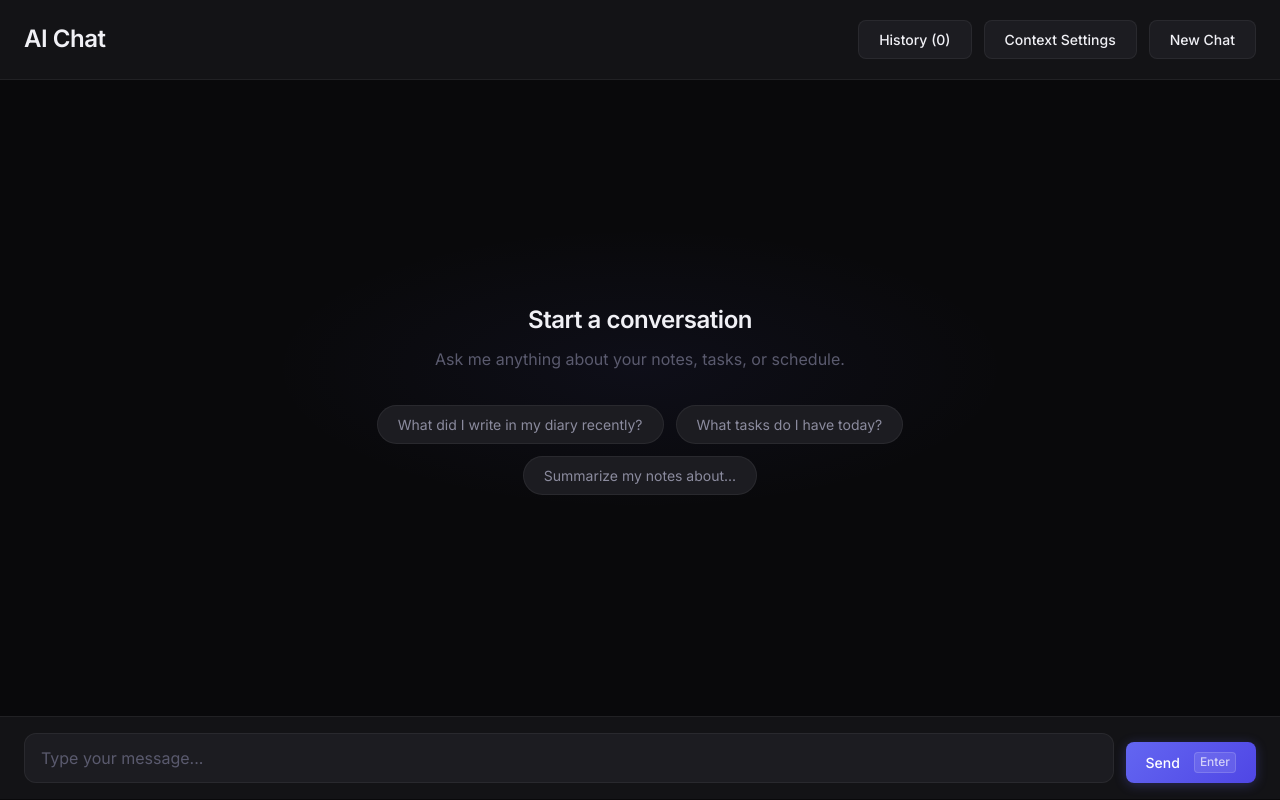
Scenario: Chat Component › displays sources when context is used
The width and height of the screenshot is (1280, 800).
Type "What did I write?" into the text box with placeholder "Type your message..." at (569, 758), box [24,733,1114,783]
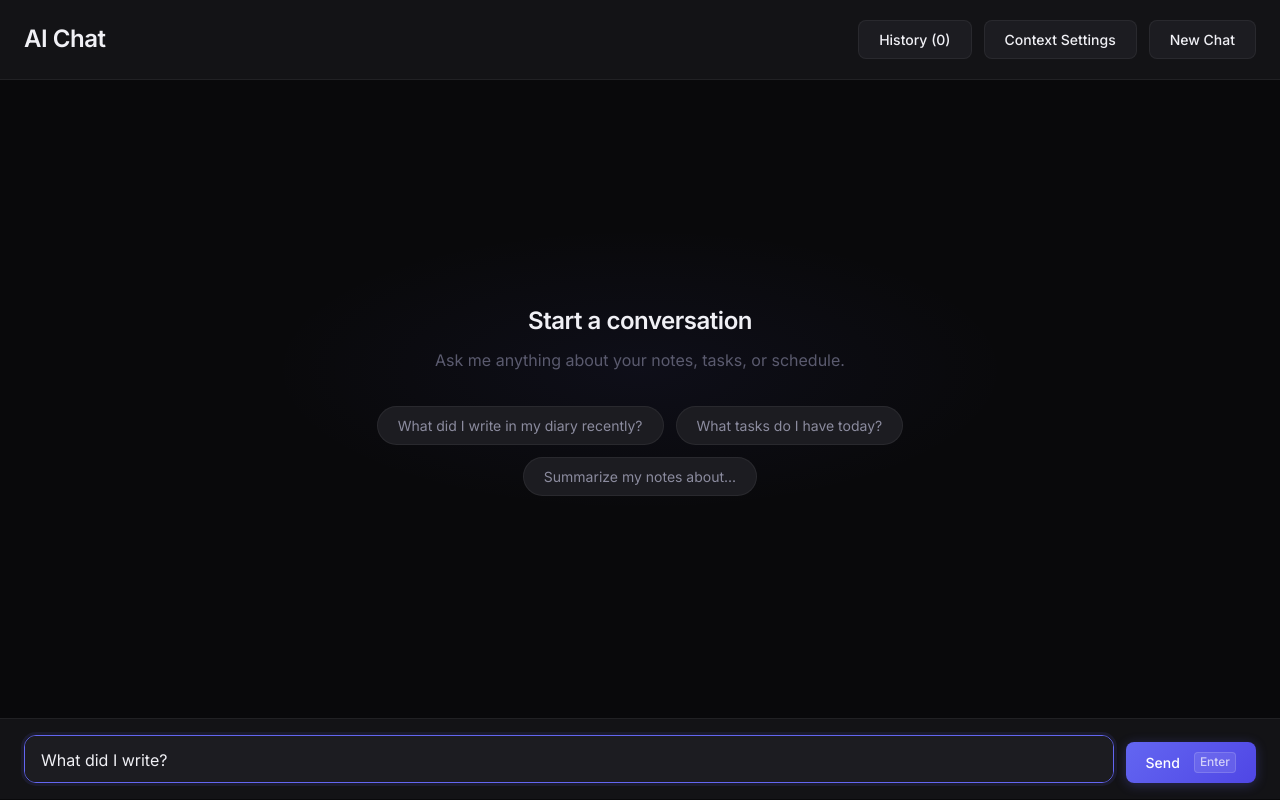
Click the button "Send Enter" at (1191, 763), box [1126,742,1256,783]
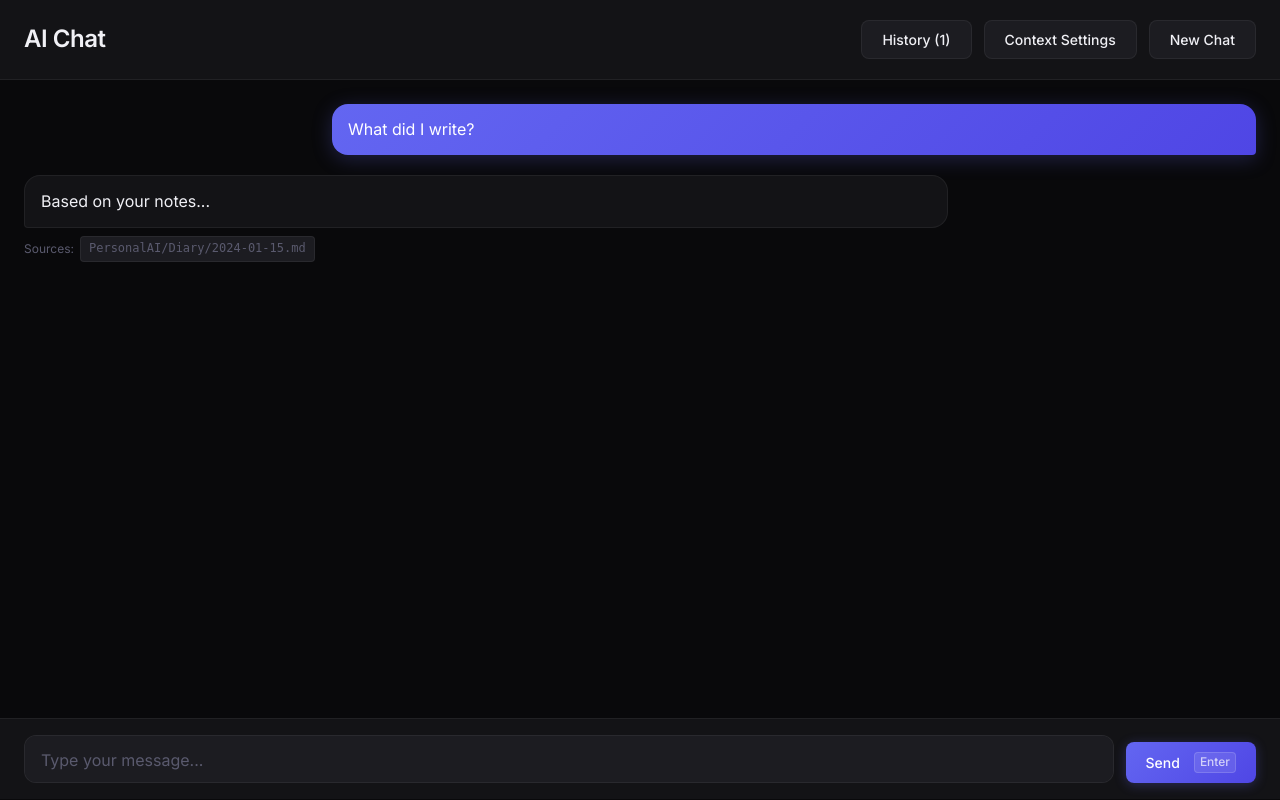
expect the text "Sources:" is shown: met, box [24,239,74,259]
expect the text "PersonalAI/Diary/2024-01-15.md" is shown: met, box [80,236,315,262]
